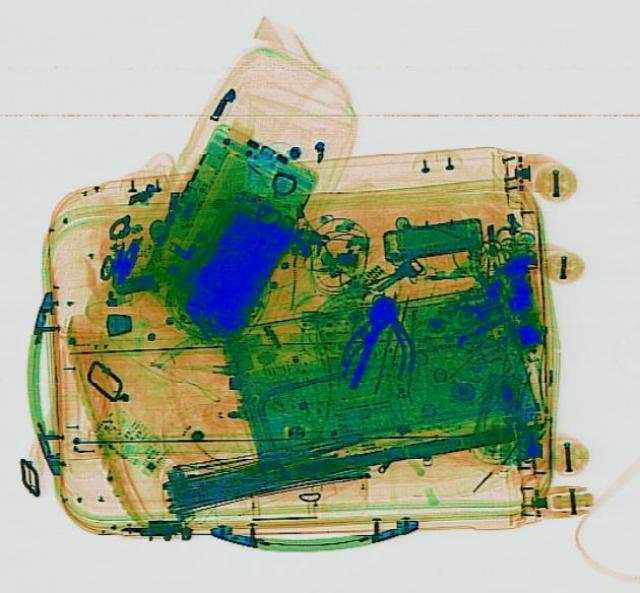Pliers: (338, 287, 429, 382), (334, 288, 422, 379)
